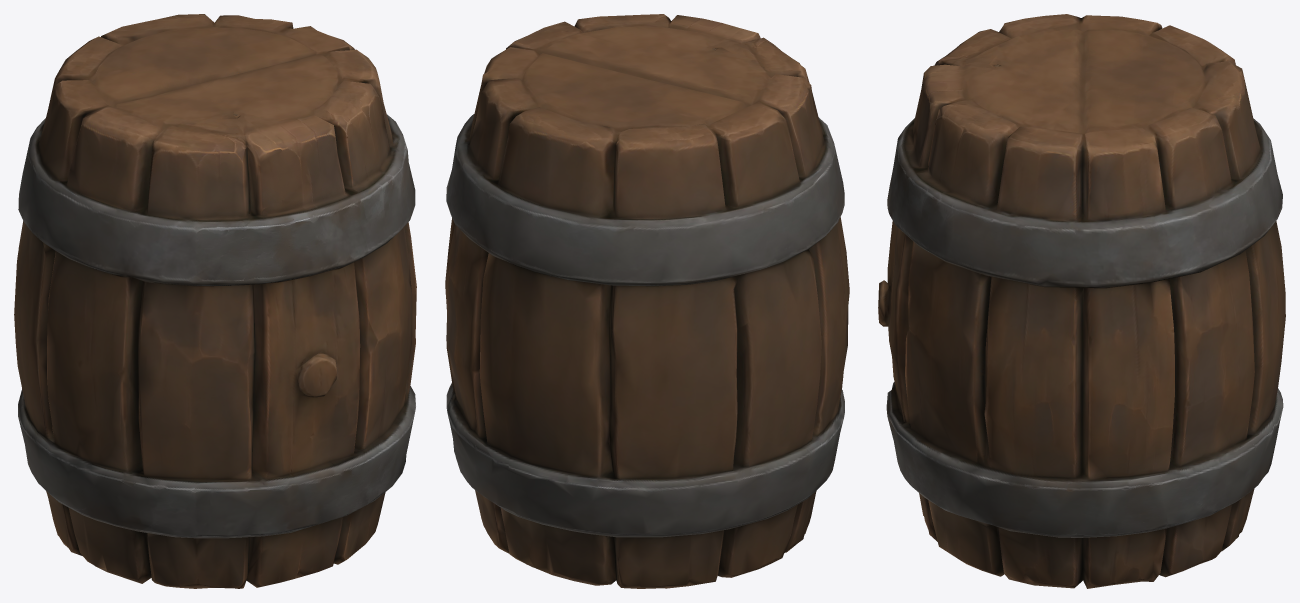
File: decor-barrel-tripo-h31-3f7a258f-source.glb
3 views of the same model, side by side, from view 1: azimuth 30°, elevation 25°; view 2: azimuth 150°, elevation 25°; view 3: azimuth 270°, elevation 25° (orthographic).
Visible parts, largest first — view 1: tripo_node_eda72a47-8d18-4031-9e06-2c061ab998d8; view 2: tripo_node_eda72a47-8d18-4031-9e06-2c061ab998d8; view 3: tripo_node_eda72a47-8d18-4031-9e06-2c061ab998d8.
Boxes of the visible parts, left/top/right/bottom form: tripo_node_eda72a47-8d18-4031-9e06-2c061ab998d8: left=14, top=14, right=416, bottom=588; tripo_node_eda72a47-8d18-4031-9e06-2c061ab998d8: left=445, top=14, right=849, bottom=588; tripo_node_eda72a47-8d18-4031-9e06-2c061ab998d8: left=878, top=14, right=1285, bottom=588.
Size of the model in its own units: 0.8047 by 0.9797 by 0.807.
Materials: 1 (1 with a texture image).
